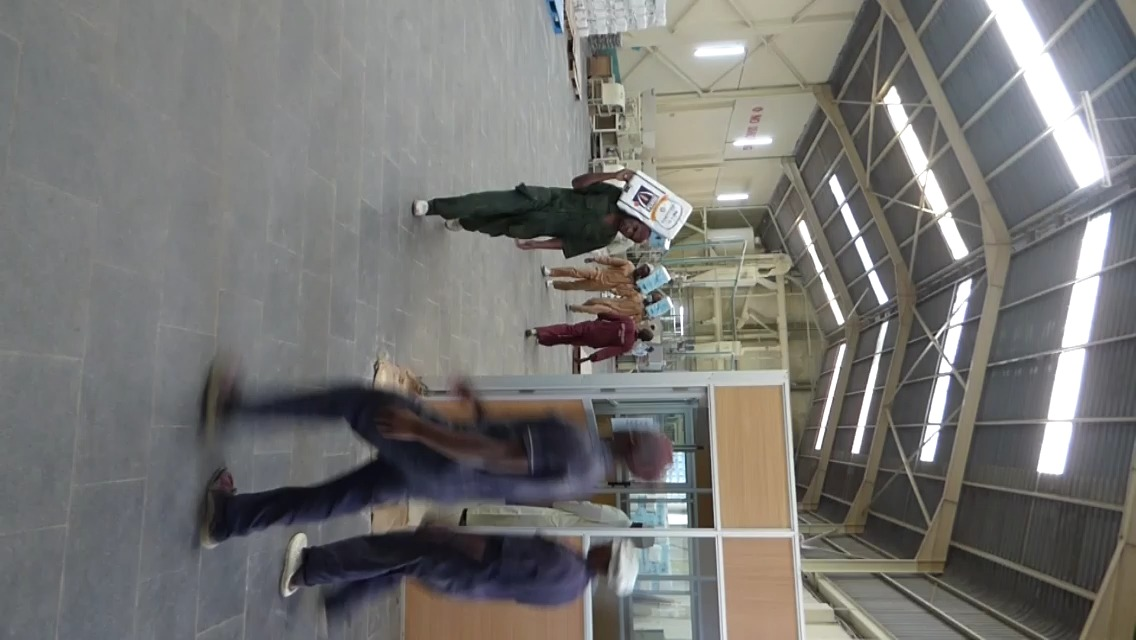wheat_flour_blue_label: (619, 169, 691, 236)
